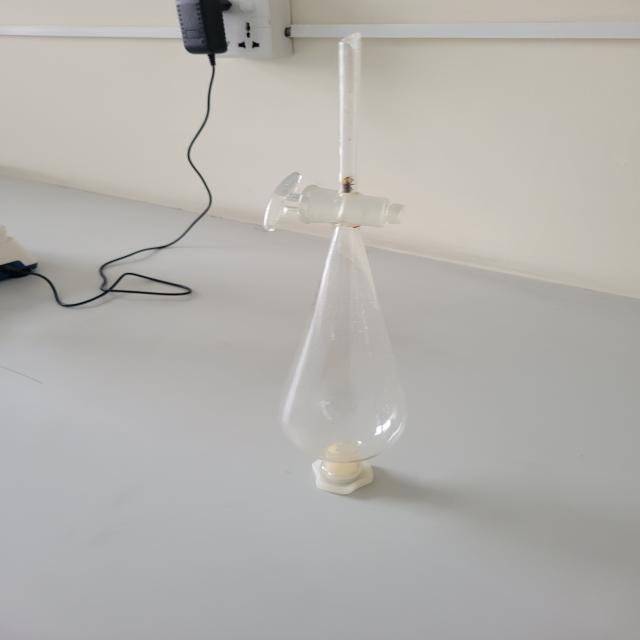Separating_Funnel: (202, 21, 464, 530)
